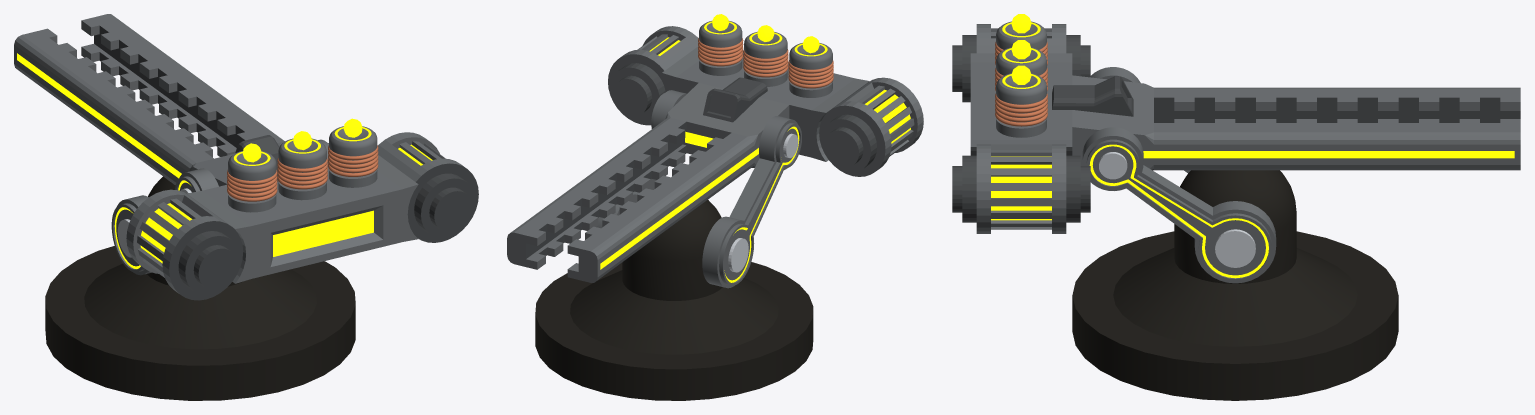
The model's file is zap_gun.fbx.
The picture shows the model from 3 angles, left to right: view 1: azimuth 30°, elevation 25°; view 2: azimuth 150°, elevation 25°; view 3: azimuth 270°, elevation 25°; orthographic projection. The views are drawn at different scales.
Visible parts, largest first — view 1: Circle, Cube, Circle.003, Circle.005, Torus.002, Circle.002, Icosphere; view 2: Circle, Cube, Circle.003, Circle.002, Circle.005, Torus.002, Circle.006, Icosphere; view 3: Circle, Cube, Circle.003, Circle.002, Circle.005, Circle.006, Torus.002, Icosphere.
Part boxes in pixels (left/top/right/bottom): Circle: left=45, top=176, right=355, bottom=400; Cube: left=14, top=14, right=402, bottom=278; Circle.003: left=126, top=132, right=478, bottom=300; Circle.005: left=228, top=126, right=377, bottom=212; Torus.002: left=227, top=145, right=378, bottom=201; Circle.002: left=111, top=139, right=328, bottom=275; Icosphere: left=242, top=118, right=362, bottom=162; Circle: left=535, top=200, right=813, bottom=400; Cube: left=507, top=52, right=855, bottom=282; Circle.003: left=608, top=26, right=923, bottom=176; Circle.002: left=596, top=90, right=801, bottom=288; Circle.005: left=699, top=21, right=832, bottom=97; Torus.002: left=698, top=38, right=833, bottom=88; Circle.006: left=728, top=133, right=798, bottom=272; Icosphere: left=712, top=14, right=819, bottom=53; Circle: left=1072, top=170, right=1398, bottom=400; Cube: left=970, top=62, right=1520, bottom=170; Circle.003: left=952, top=24, right=1090, bottom=233; Circle.002: left=1082, top=67, right=1276, bottom=283; Circle.005: left=996, top=21, right=1046, bottom=137; Circle.006: left=1099, top=152, right=1255, bottom=267; Torus.002: left=995, top=42, right=1047, bottom=126; Icosphere: left=1011, top=14, right=1031, bottom=84.
Bounding box in the file's own units: 184 × 158 × 279.
